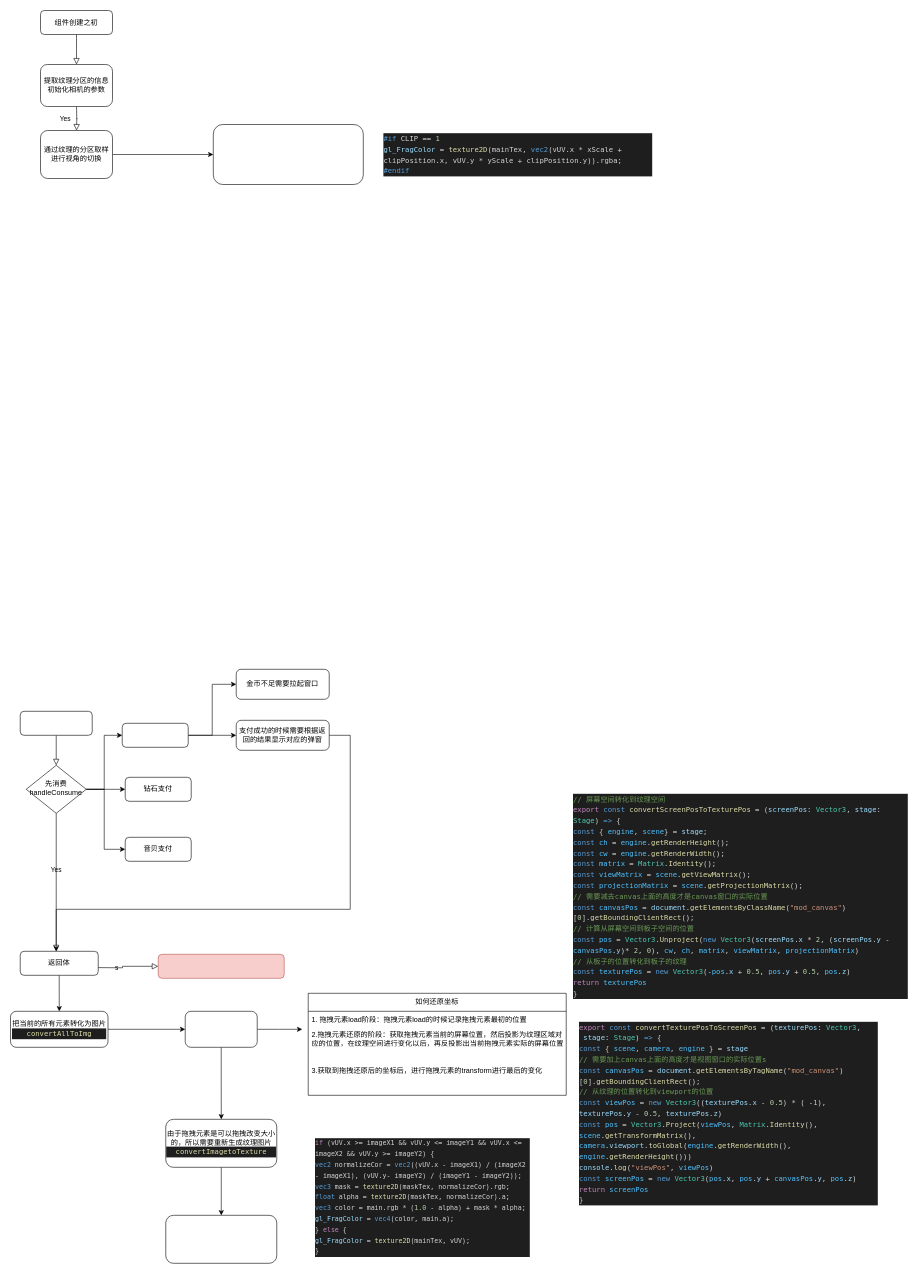
This 919x1274 diagram has some shape labels left out. The shapes that lost their labels are listed below. From the top down, each one's centre as x and y in pixels, then its label:
(x=288, y=154): 1.隐藏和显示对应的拖拽元素 2.设置裁剪中心 3.设置放大倍数
(x=56, y=723): 提交纹理的过程 handleSave
(x=155, y=735): 金币支付
(x=221, y=966): strSafeUrl 非空跳转实名认证页面
(x=221, y=1029): 把拖拽元素的都还原到对应的纹理区域 resetImagePos
(x=221, y=1239): 然后拖拽元素图片的坐标和图片传入shader进行渲染
